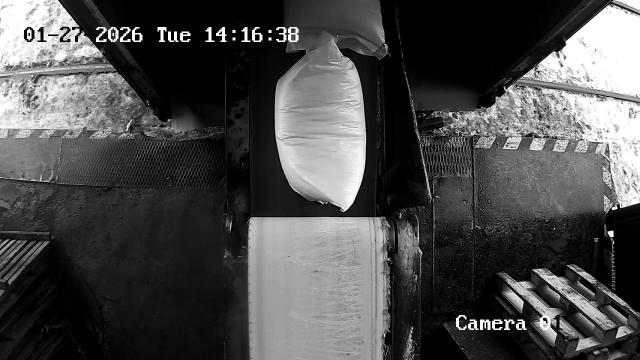bag: (276, 36, 366, 211), (284, 0, 388, 61)
